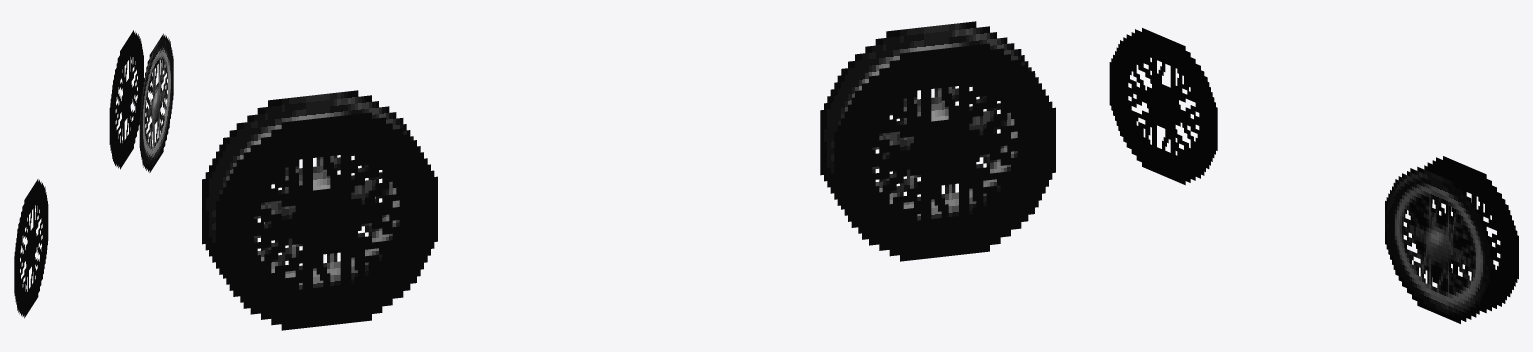
Rendered from motorcycle_secondary.glb.
3 views of the same model, side by side, from view 1: azimuth 30°, elevation 25°; view 2: azimuth 150°, elevation 25°; view 3: azimuth 270°, elevation 25° (orthographic). The views are drawn at different scales.
Visible parts, largest first — view 1: Object; view 2: Object; view 3: Object.
Part boxes in pixels (left/top/right/bottom): Object: left=14, top=30, right=173, bottom=318; Object: left=202, top=21, right=1055, bottom=330; Object: left=1109, top=28, right=1518, bottom=323.
Size of the model in its own units: 0.574 by 0.2013 by 0.5704.
2 materials, 2 textured.
